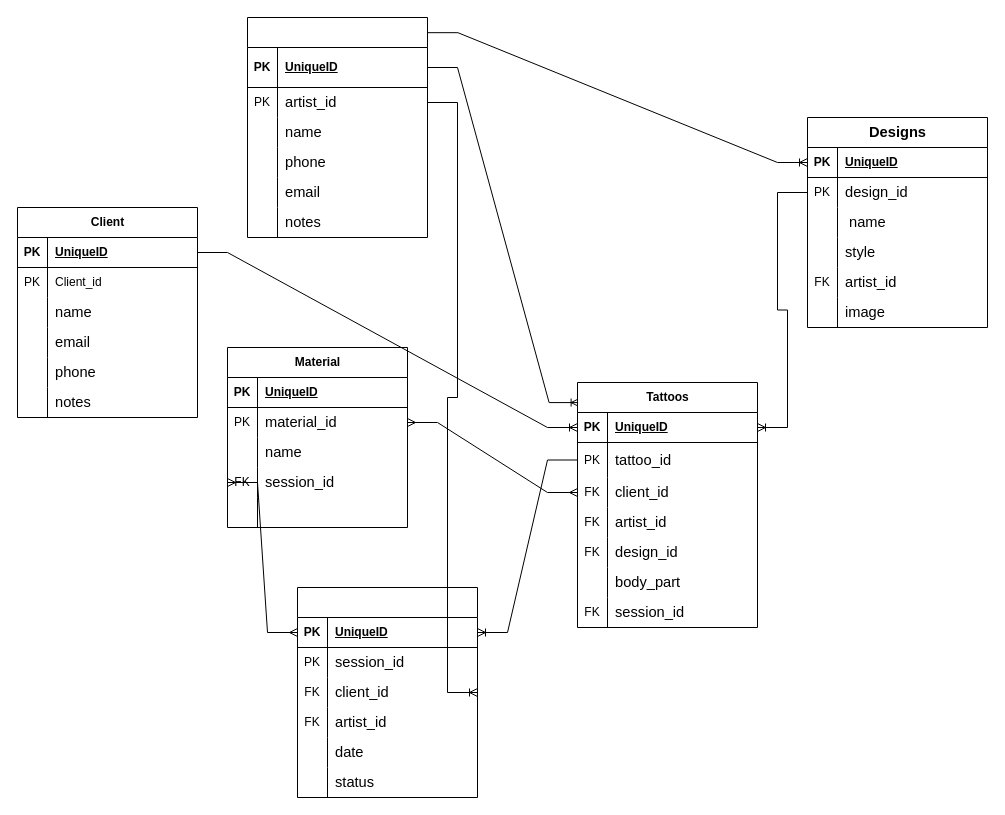
The diagram is 1005 pixels wide and 815 high, and some of its shapes have lost their labels. The box of each missing label's shape, as (x1, y1, x2, y2) in pixels:
artists: (246, 16, 428, 238)
Sessions: (296, 586, 478, 798)
